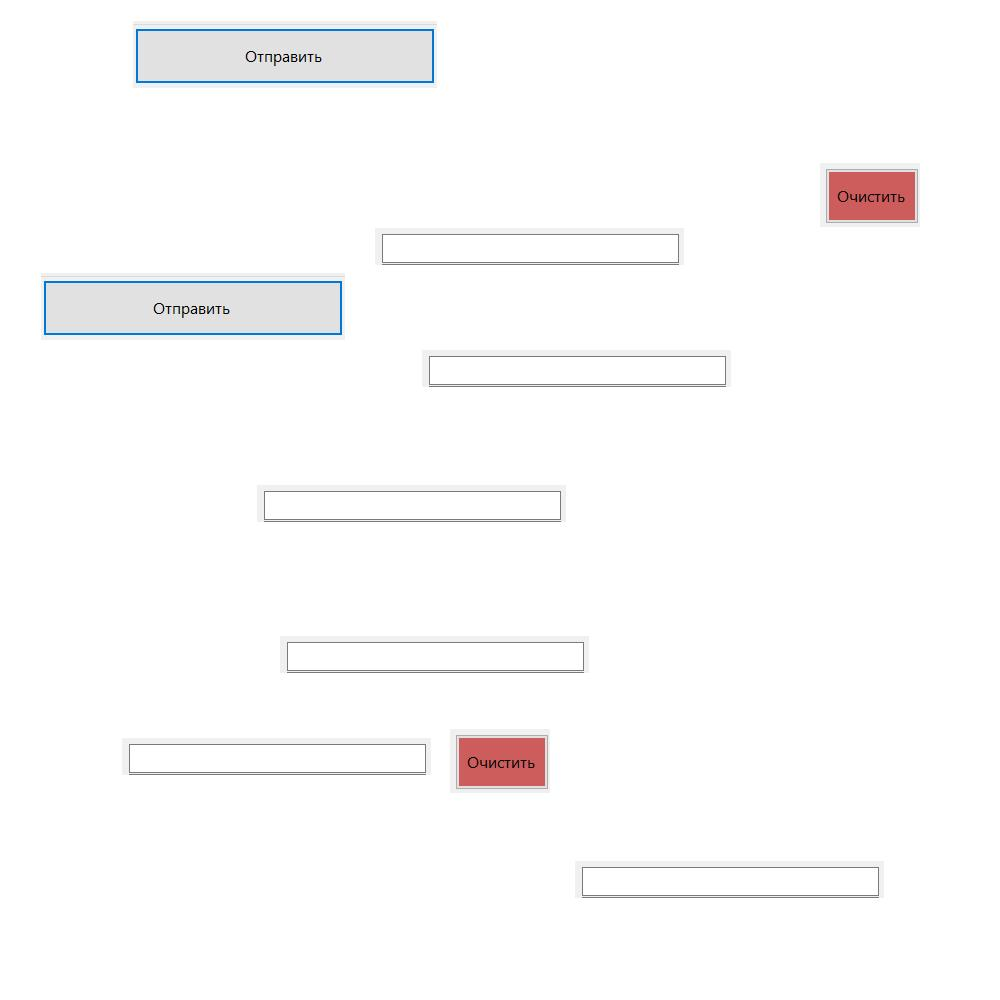Button: (133, 21, 437, 88), (41, 273, 345, 340), (450, 729, 550, 793), (820, 163, 920, 227)
EditText-: (422, 350, 731, 387), (375, 228, 684, 265), (257, 485, 566, 522), (280, 636, 589, 673), (575, 861, 884, 898), (122, 738, 431, 775)
